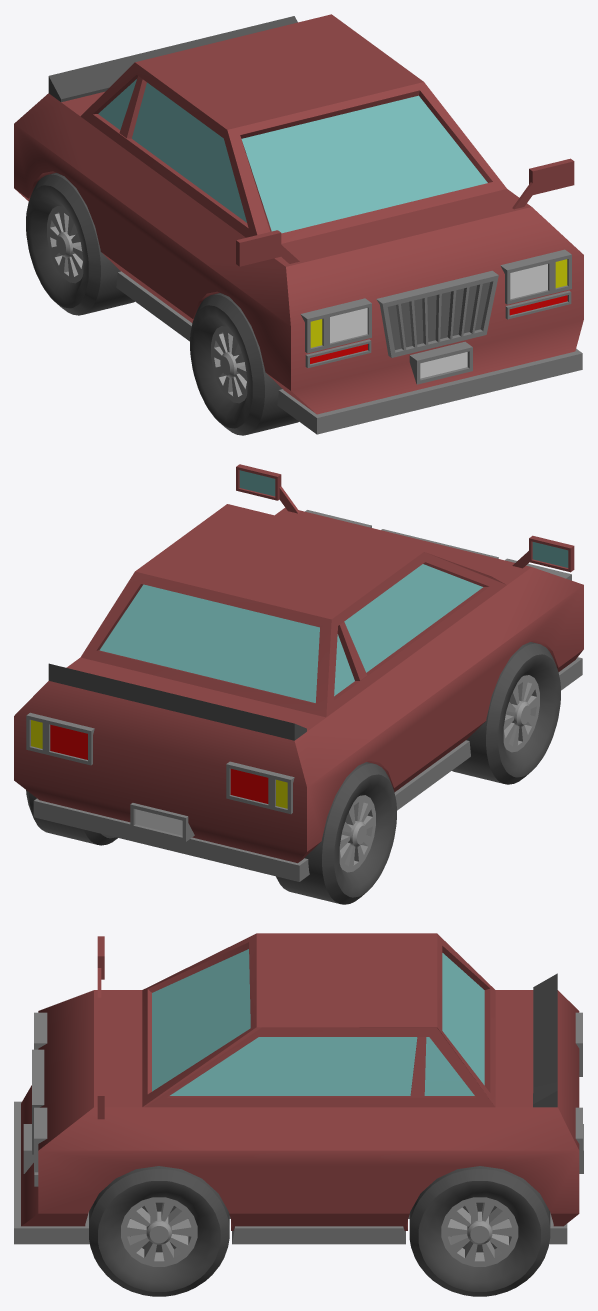
File: Carritocoupe.fbx
3 renders of one model, top to bottom at view 1: azimuth 30°, elevation 25°; view 2: azimuth 150°, elevation 25°; view 3: azimuth 270°, elevation 25°, orthographic. The views are drawn at different scales.
Parts seen in each view (by area): view 1: polySurface1, pCylinder2, polySurface2, pCube2, pCube1, pCube5, pCube3, pCube4; view 2: polySurface1, pCylinder2, polySurface2, pCube1, pCube5, pCube4; view 3: polySurface1, pCylinder2, polySurface2, pCube1, pCube2, pCube5, pCube4.
Part boxes in pixels (x1,y1,x2,y2): polySurface1: (14, 14, 583, 414); pCylinder2: (26, 172, 298, 435); polySurface2: (116, 271, 582, 434); pCube2: (376, 270, 498, 357); pCube1: (300, 249, 571, 353); pCube5: (236, 158, 574, 266); pCube3: (305, 290, 571, 367); pCube4: (409, 341, 472, 384); polySurface1: (14, 504, 583, 863); pCylinder2: (26, 642, 560, 904); polySurface2: (33, 657, 582, 881); pCube1: (26, 510, 571, 814); pCube5: (236, 464, 574, 572); pCube4: (130, 803, 194, 841); polySurface1: (21, 933, 579, 1230); pCylinder2: (89, 1166, 550, 1296); polySurface2: (14, 1101, 567, 1244); pCube1: (34, 1012, 582, 1172); pCube2: (32, 1049, 44, 1154); pCube5: (97, 936, 104, 1119); pCube4: (23, 1124, 583, 1173).
Size of the model in its own units: 3.07 by 2.21 by 4.63.
